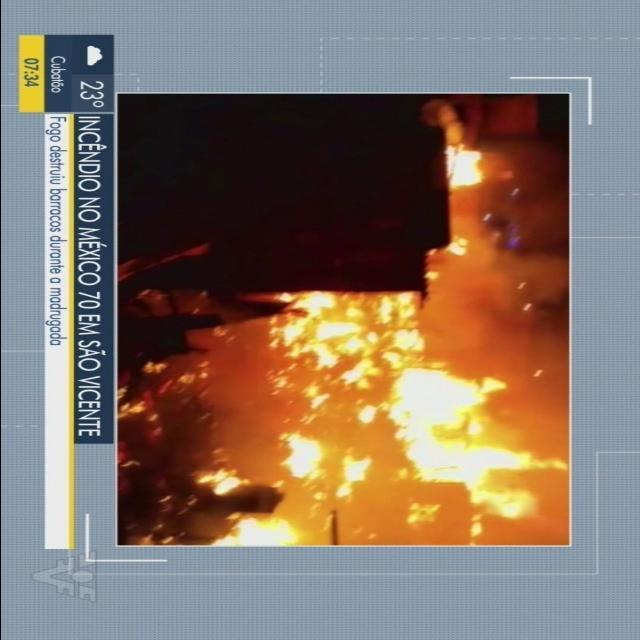Fire: (276, 288, 556, 542), (211, 515, 301, 545), (446, 144, 484, 190), (200, 468, 242, 496), (444, 234, 476, 258)
